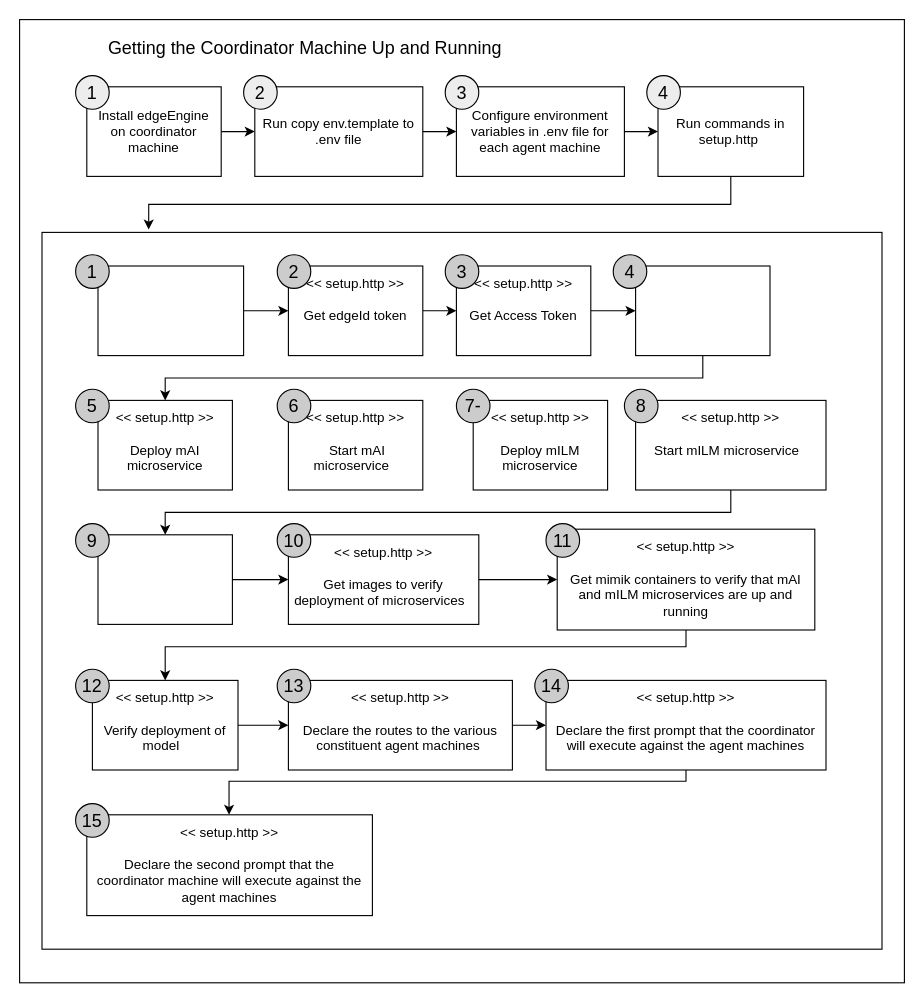
This 924x1002 diagram has some shape labels left out. The centre of each missing label's shape, as x and y in pixels:
<< setup.http >> Associate device with account: pixel 702 310
<< setup.http >> Download model to agent machine: pixel 164 579
<< setup.http >> Get node Id from agent and save it: pixel 170 310
